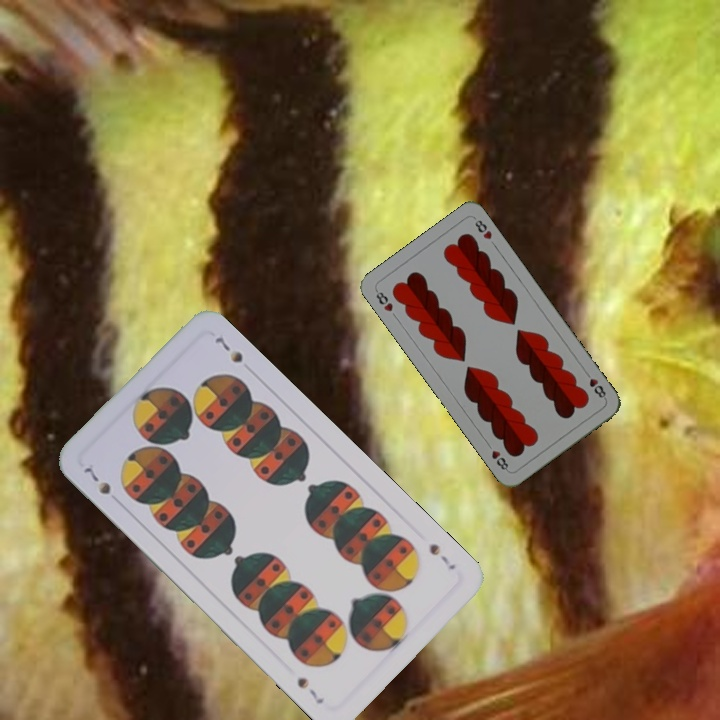H8: (580, 367, 609, 402), (371, 285, 396, 314)
S7: (79, 462, 114, 497), (425, 539, 459, 573)
